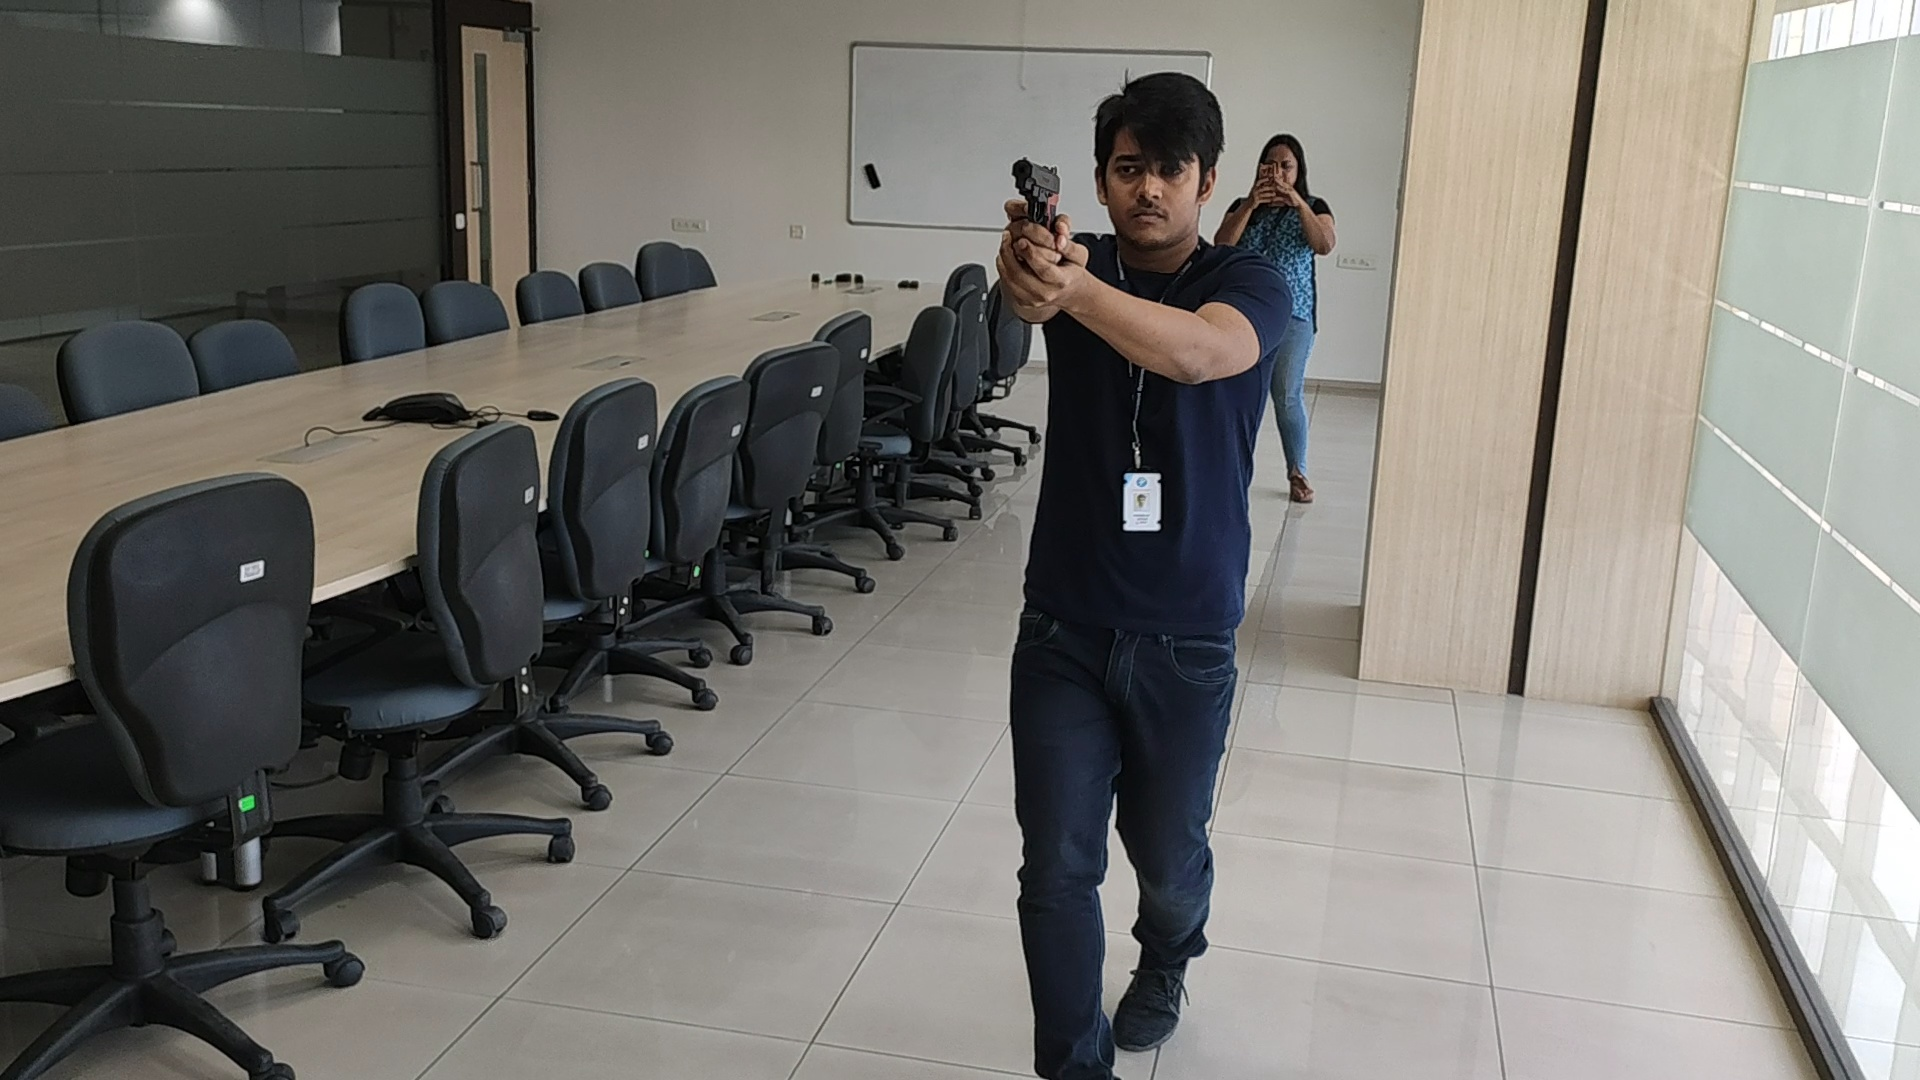gun: (1007, 157, 1063, 232)
